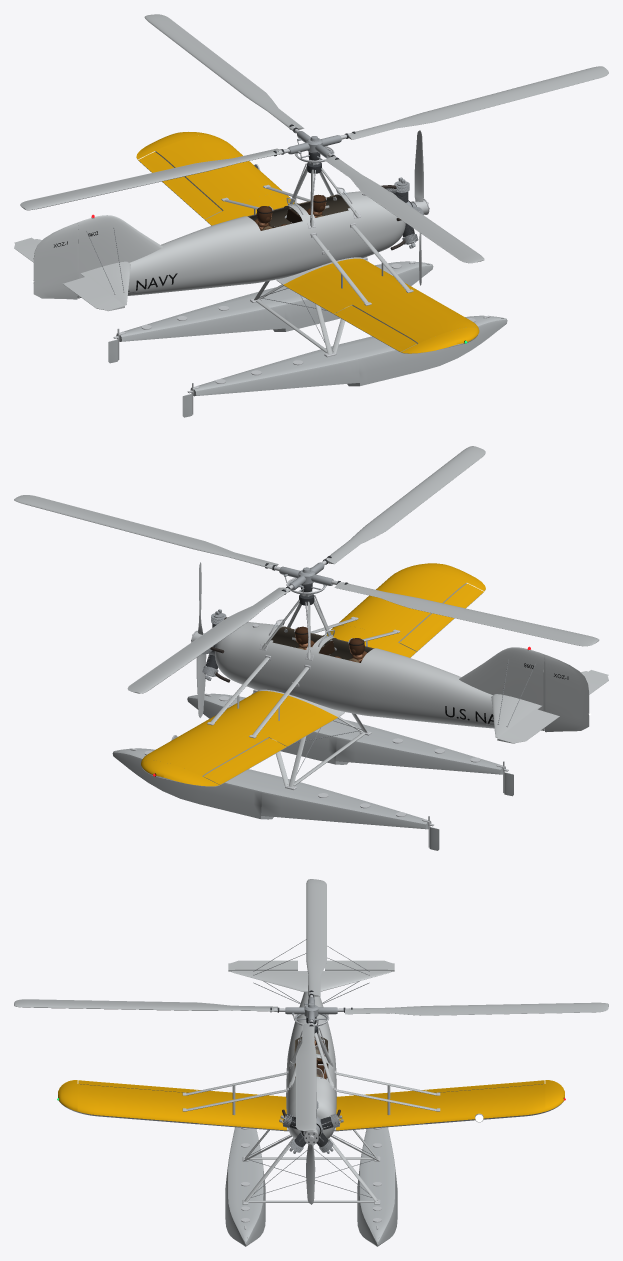
The model's file is wilford.glb.
3 renders of one model, top to bottom at view 1: azimuth 30°, elevation 25°; view 2: azimuth 150°, elevation 25°; view 3: azimuth 270°, elevation 25°, orthographic. The views are drawn at different scales.
Parts seen in each view (by area): view 1: airframe, rotor, rudder, prop; view 2: airframe, rotor, rudder, prop; view 3: airframe, rotor, prop.
Boxes of the visible parts, bbox=[...] form: airframe: bbox=[14, 132, 507, 396]; rotor: bbox=[20, 14, 608, 263]; rudder: bbox=[31, 222, 78, 299]; prop: bbox=[411, 130, 429, 285]; airframe: bbox=[112, 563, 608, 829]; rotor: bbox=[14, 446, 599, 693]; rudder: bbox=[543, 654, 591, 732]; prop: bbox=[191, 562, 206, 717]; airframe: bbox=[57, 939, 565, 1246]; rotor: bbox=[14, 879, 608, 1130]; prop: bbox=[304, 1092, 318, 1204].
Size of the model in its own units: 9.75 by 3.56 by 9.75.
